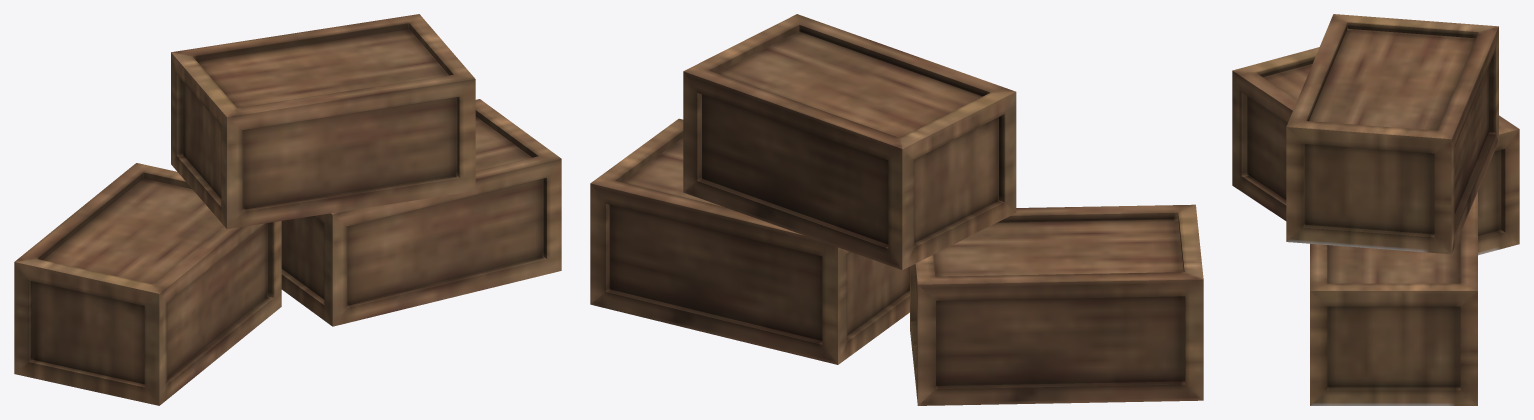
The model's file is Props_02_Boxes_Unity.FBX.
The picture shows the model from 3 angles, left to right: view 1: azimuth 30°, elevation 25°; view 2: azimuth 150°, elevation 25°; view 3: azimuth 270°, elevation 25°; orthographic projection. The views are drawn at different scales.
Parts seen in each view (by area): view 1: Props_02_Box; view 2: Props_02_Box; view 3: Props_02_Box.
Boxes of the visible parts, x1,y1,x2,y2 form: Props_02_Box: (14, 14, 561, 405); Props_02_Box: (590, 14, 1203, 405); Props_02_Box: (1232, 14, 1519, 405).
Size of the model in its own units: 177 by 73.38 by 83.11.
1 material, 1 textured.
